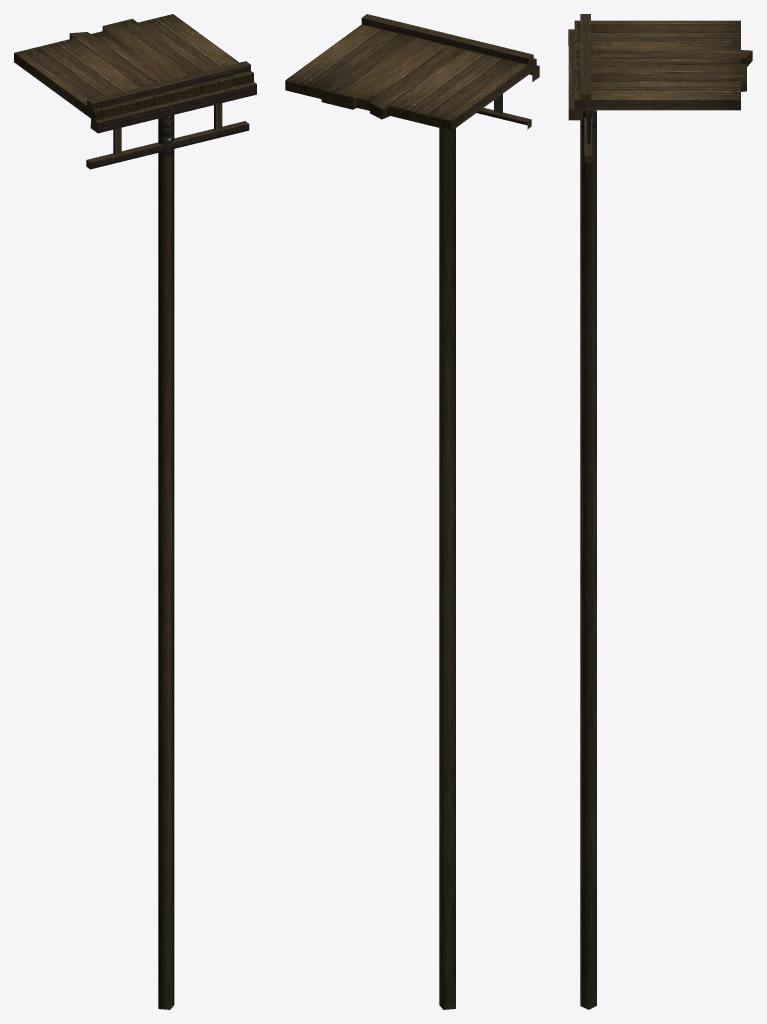
Rendered from yw_juxianzhuang_muqiao02.FBX.
3 renders of one model, left to right at view 1: azimuth 30°, elevation 25°; view 2: azimuth 150°, elevation 25°; view 3: azimuth 270°, elevation 25°, orthographic. The views are drawn at different scales.
Parts seen in each view (by area): view 1: yw_juxianzhuang_muqiao02; view 2: yw_juxianzhuang_muqiao02; view 3: yw_juxianzhuang_muqiao02.
Boxes of the visible parts, x1=… form: yw_juxianzhuang_muqiao02: x1=14, y1=14, x2=256, y2=1009; yw_juxianzhuang_muqiao02: x1=285, y1=14, x2=539, y2=1009; yw_juxianzhuang_muqiao02: x1=568, y1=14, x2=752, y2=1009.
Size of the model in its own units: 546 by 3037 by 532.
1 material, 1 textured.
